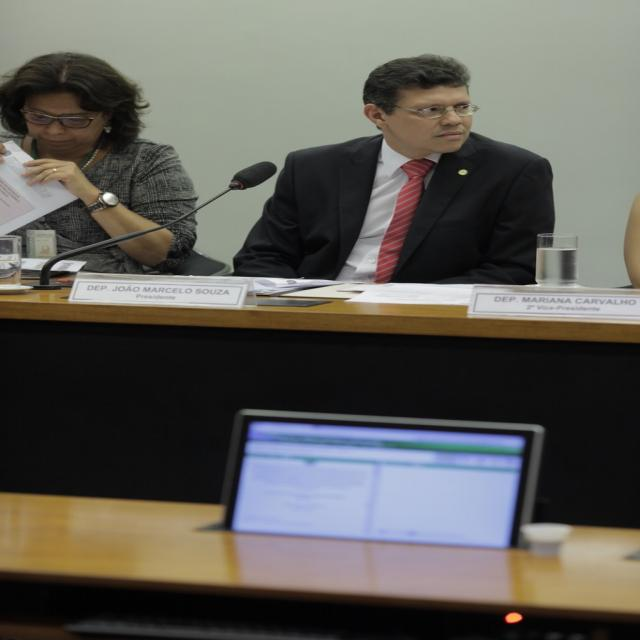desk: (0, 492, 639, 640)
person: (230, 55, 556, 287), (0, 52, 202, 274)
tv: (214, 410, 546, 549)
